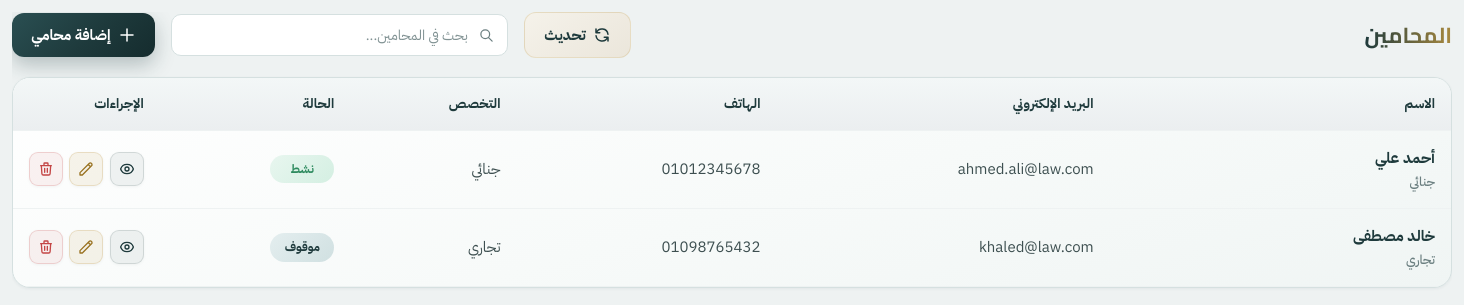
Test: LawyersPage Feature Tests › filters lawyers by search query
Expected: the text "أحمد علي" is shown, [1375,147,1435,169]
Type "خالد" into the search field labelled "بحث في المحامين" at (340, 35), box [171,14,508,56]
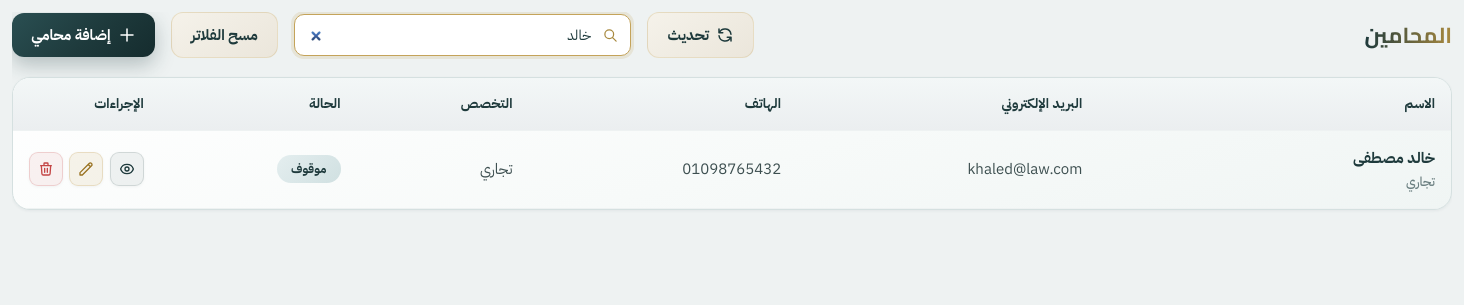
Expected: the text "خالد مصطفى" is shown, [1353,147,1435,169]
Result: the text "أحمد علي" is gone
Click the button "مسح الفلاتر" at (225, 35), box [171,12,278,58]
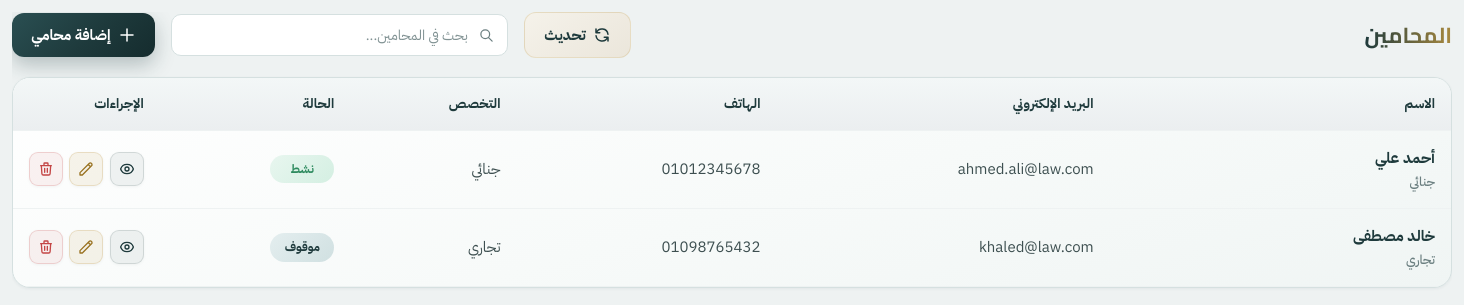
Result: the text "أحمد علي" is shown at [1375,147,1435,169]
